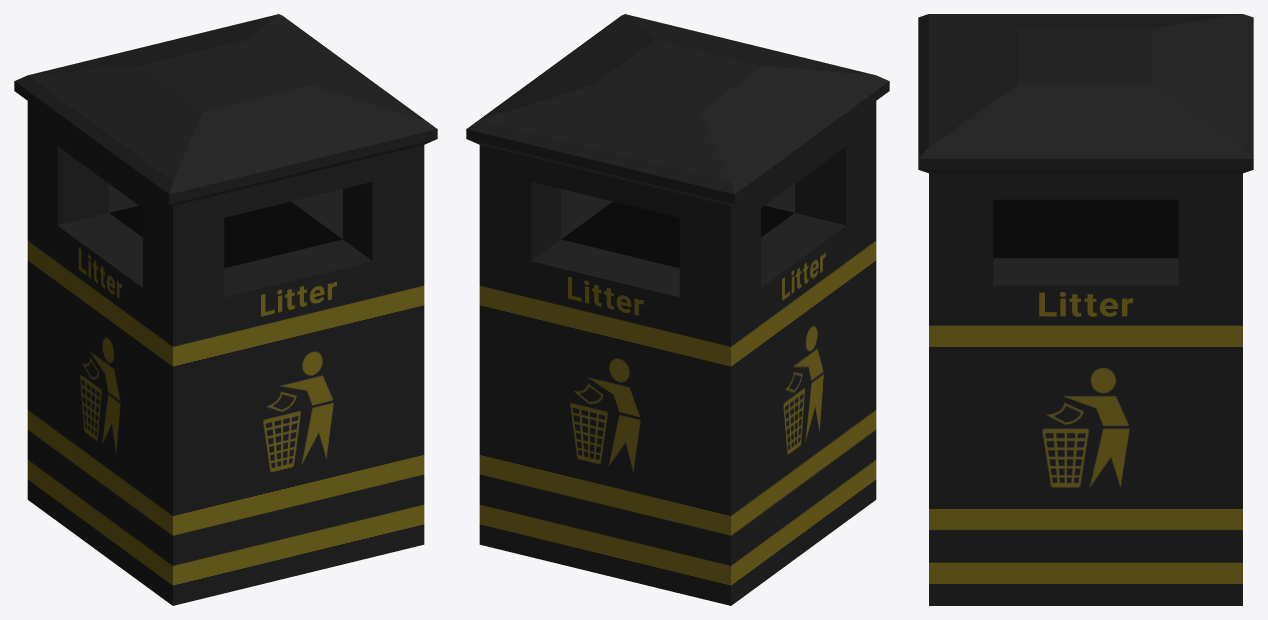
The model's file is Bin.fbx.
3 views of the same model, side by side, from view 1: azimuth 30°, elevation 25°; view 2: azimuth 150°, elevation 25°; view 3: azimuth 270°, elevation 25° (orthographic). The views are drawn at different scales.
Visible parts, largest first — view 1: Object001; view 2: Object001; view 3: Object001.
Part boxes in pixels (x1,y1,x2,y2): Object001: [14, 14, 437, 605]; Object001: [466, 14, 889, 605]; Object001: [918, 14, 1253, 605].
Bounding box in the file's own units: 37.68 × 59.94 × 37.68.
